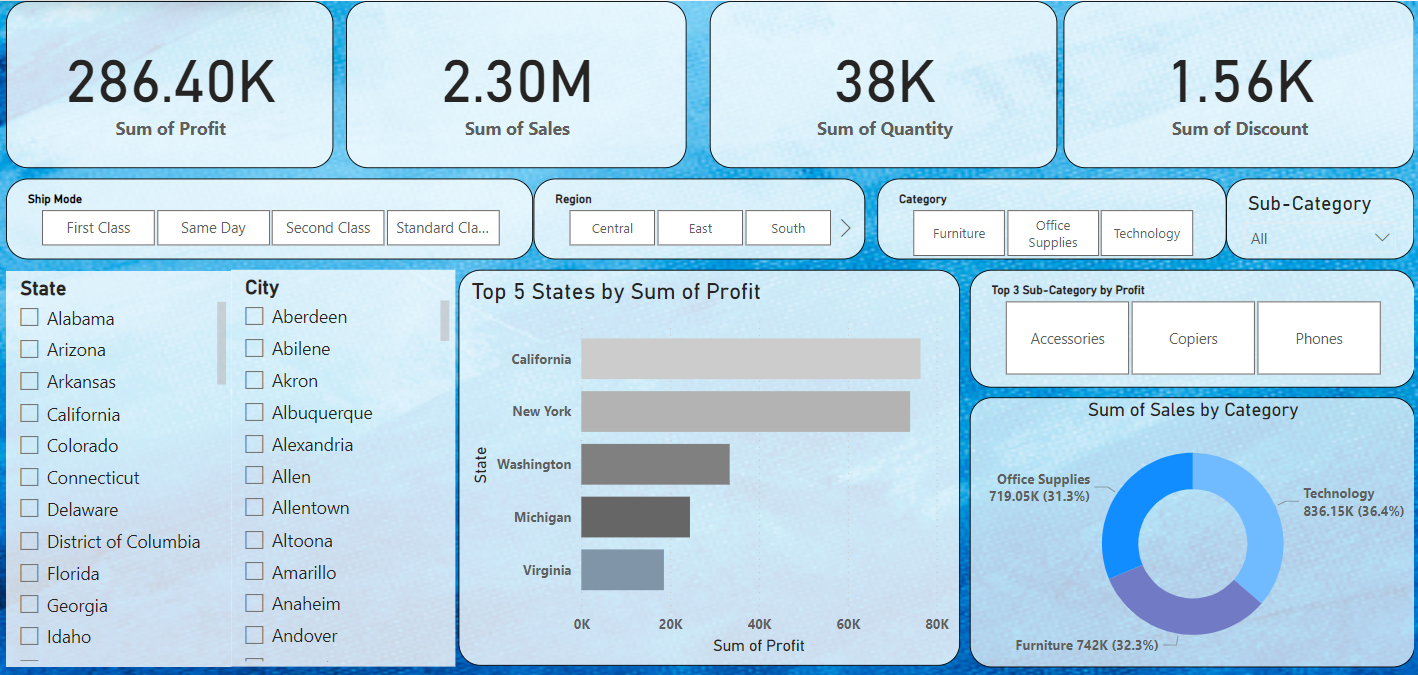

This screenshot's page, from the dashboard's own definition file:
{"tool":"powerbi","page":{"name":"Page 1","canvas":[1280,720],"ordinal":0},"visuals":[{"type":"card","fields":{"Values":["Sum(SampleSuperstore.Profit)"]},"box":[0,0,297.3,152.1],"z":0},{"type":"card","fields":{"Values":["Sum(SampleSuperstore.Sales)"]},"box":[309.5,0,309.5,152.1],"z":1000},{"type":"slicer","fields":{"Values":["SampleSuperstore.State"]},"box":[0,245.7,205,359.8],"z":2000},{"type":"slicer","fields":{"Values":["SampleSuperstore.Ship Mode"]},"box":[0,161.6,479.3,73.3],"z":3000},{"type":"clusteredBarChart","title":"Top 5 States by Sum of Profit","fields":{"Category":["SampleSuperstore.State"],"Y":["Sum(SampleSuperstore.Profit)"]},"box":[411.4,244.4,456.2,359.8],"z":4000},{"type":"slicer","fields":{"Values":["SampleSuperstore.Region"]},"box":[479.3,161.6,301.4,73.3],"z":5000},{"type":"slicer","fields":{"Values":["SampleSuperstore.City"]},"box":[205,244.4,203.6,361.1],"z":6000},{"type":"slicer","fields":{"Values":["SampleSuperstore.Category"]},"box":[791.5,161.6,317.7,73.3],"z":7000},{"type":"card","fields":{"Values":["Sum(SampleSuperstore.Discount)"]},"box":[961.2,0,319.1,152.1],"z":8000},{"type":"card","fields":{"Values":["Sum(SampleSuperstore.Quantity)"]},"box":[639.5,0,316.3,152.1],"z":9000},{"type":"slicer","fields":{"Values":["SampleSuperstore.Sub-Category"]},"box":[1109.2,161.6,171.1,73.3],"z":10000},{"type":"donutChart","fields":{"Category":["SampleSuperstore.Category"],"Y":["Sum(SampleSuperstore.Sales)"]},"box":[875.7,359.8,404.6,245.7],"z":11000},{"type":"slicer","fields":{"Values":["SampleSuperstore.Sub-Category"]},"box":[875.7,244.4,404.6,107.3],"z":12000}]}

Visuals, with their boxes on the page's 1280x720 design canvas (x1, y1, x2, y2). These are canvas units, not pixel positions in the 1418x675 screenshot, which may show the page scaled, cropped or inside an application window:
card - Sum(SampleSuperstore.Profit): crop(0, 0, 297, 152)
card - Sum(SampleSuperstore.Sales): crop(310, 0, 619, 152)
slicer - SampleSuperstore.State: crop(0, 246, 205, 606)
slicer - SampleSuperstore.Ship Mode: crop(0, 162, 479, 235)
"Top 5 States by Sum of Profit" clusteredBarChart: crop(411, 244, 868, 604)
slicer - SampleSuperstore.Region: crop(479, 162, 781, 235)
slicer - SampleSuperstore.City: crop(205, 244, 409, 606)
slicer - SampleSuperstore.Category: crop(792, 162, 1109, 235)
card - Sum(SampleSuperstore.Discount): crop(961, 0, 1280, 152)
card - Sum(SampleSuperstore.Quantity): crop(640, 0, 956, 152)
slicer - SampleSuperstore.Sub-Category: crop(1109, 162, 1280, 235)
donutChart - SampleSuperstore.Category x Sum(SampleSuperstore.Sales): crop(876, 360, 1280, 606)
slicer - SampleSuperstore.Sub-Category: crop(876, 244, 1280, 352)
